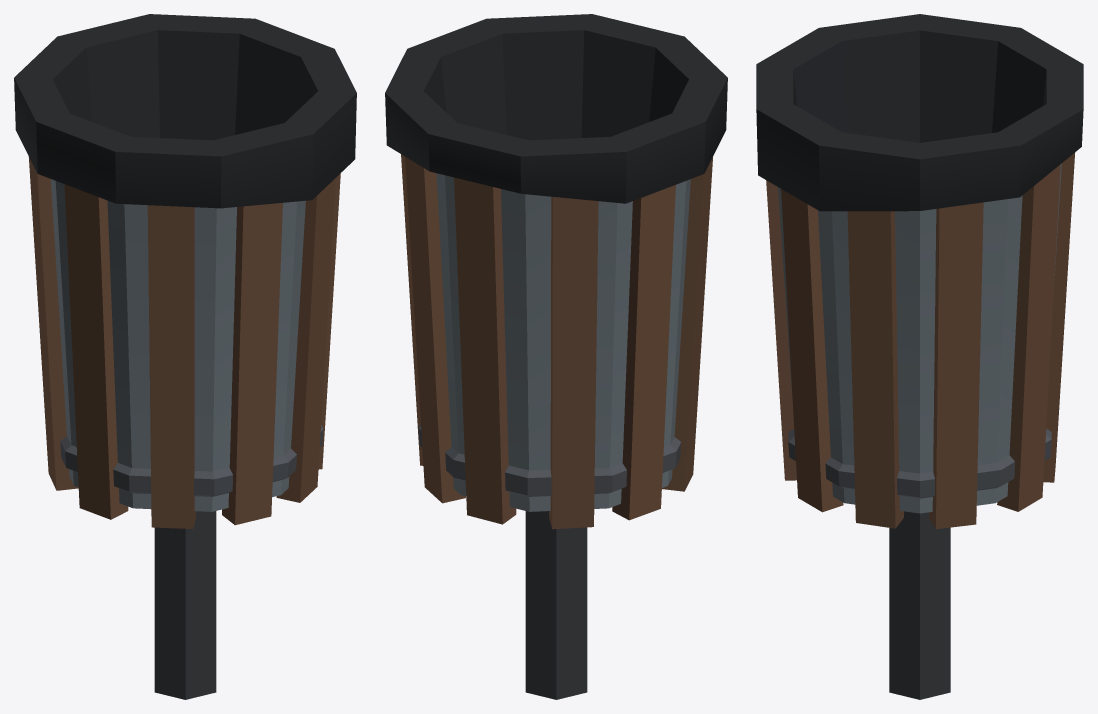
File: park_bin.glb
3 views of the same model, side by side, from view 1: azimuth 30°, elevation 25°; view 2: azimuth 150°, elevation 25°; view 3: azimuth 270°, elevation 25° (orthographic).
Parts seen in each view (by area): view 1: SM_Env_Park_Rubbish_Bin_01; view 2: SM_Env_Park_Rubbish_Bin_01; view 3: SM_Env_Park_Rubbish_Bin_01.
Boxes of the visible parts, box(x1,y1,x2,y2) form: SM_Env_Park_Rubbish_Bin_01: box(14, 14, 356, 699); SM_Env_Park_Rubbish_Bin_01: box(385, 14, 727, 699); SM_Env_Park_Rubbish_Bin_01: box(756, 14, 1083, 699).
Bounding box in the file's own units: 0.5841 × 1.12 × 0.5555.
1 material, 1 textured.
